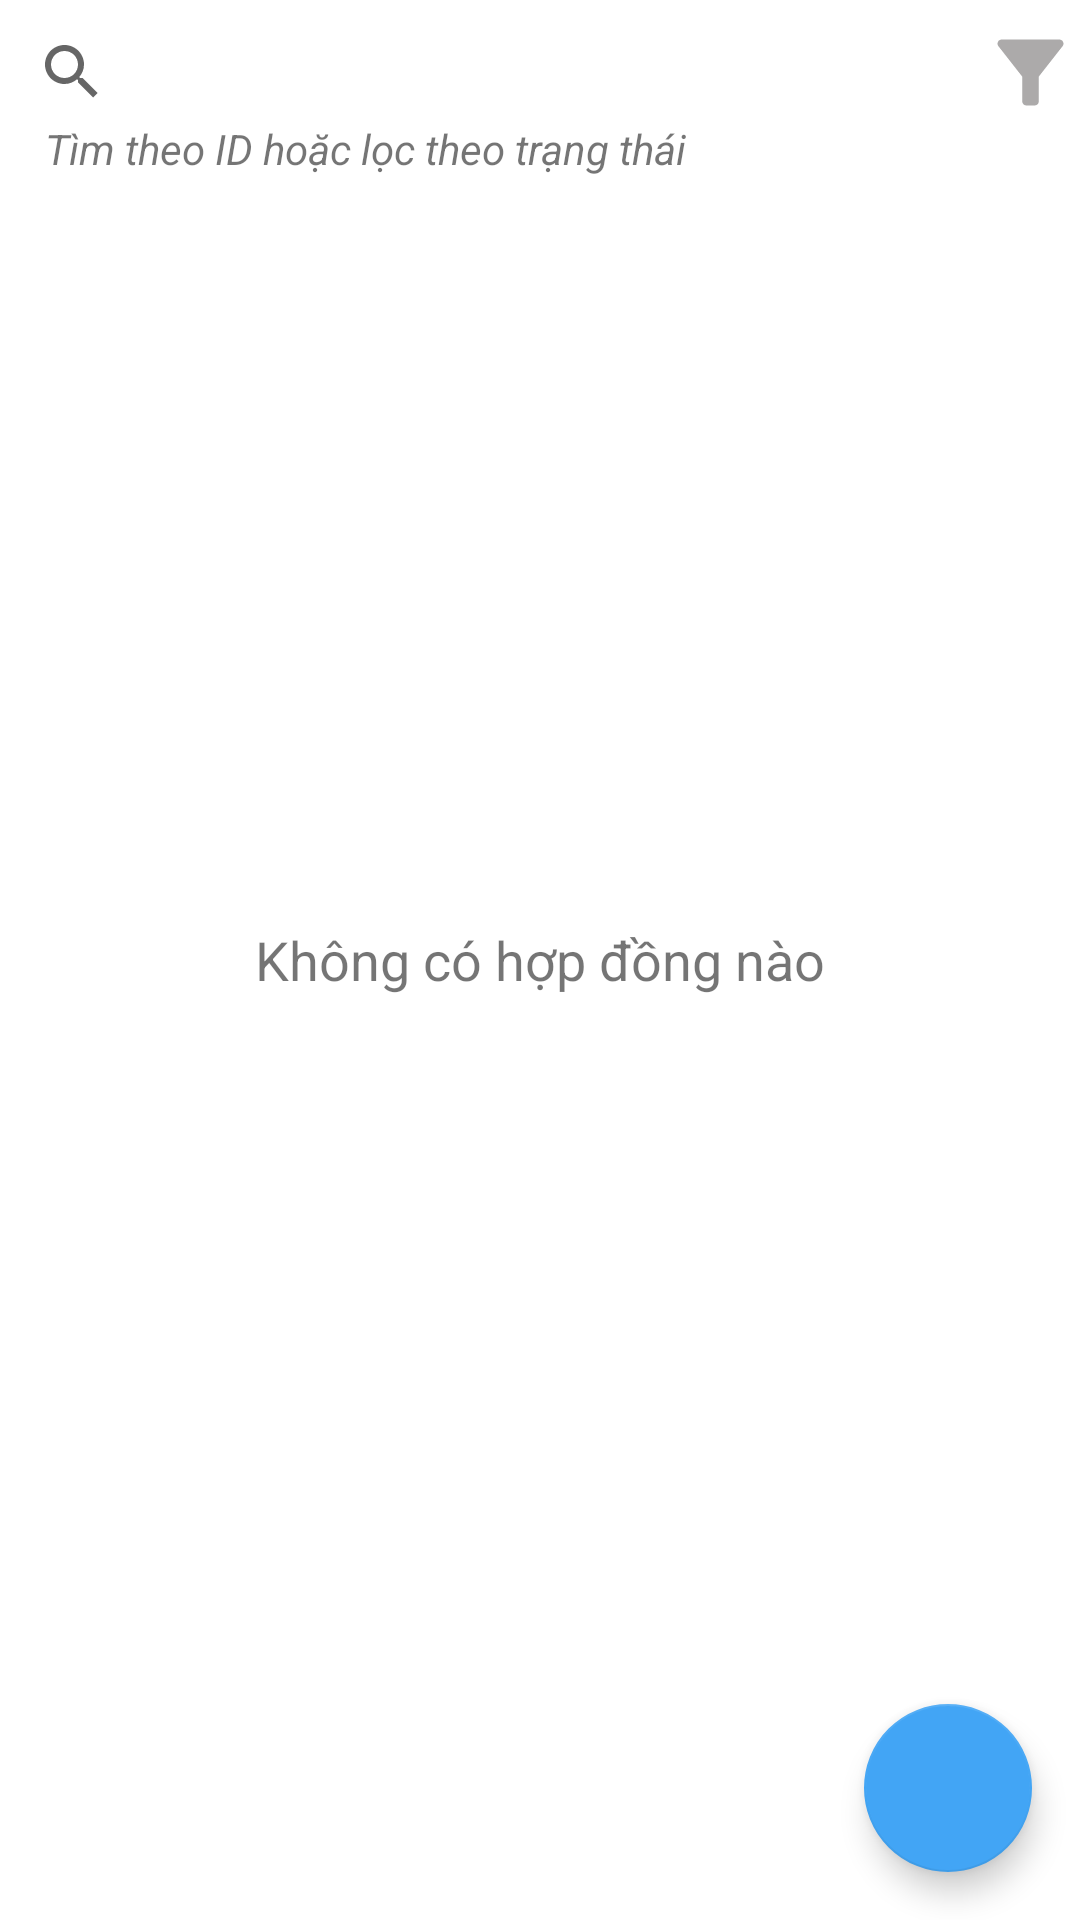

Icon bounding boxes for this 1080px×1920px phone screenshot, format (x1, y1, x2, y2):
filter list: (997, 39, 1064, 106)
